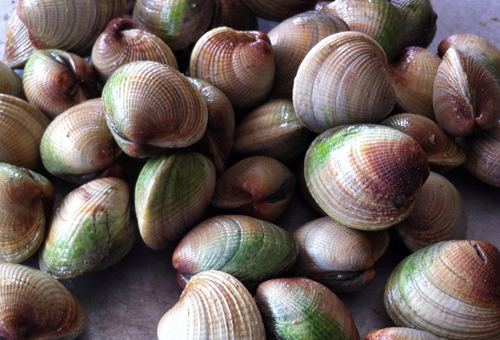cockle: (299, 122, 432, 233), (382, 238, 500, 339), (37, 172, 141, 283), (105, 57, 212, 159), (290, 29, 394, 132), (168, 212, 303, 287), (129, 153, 218, 252), (154, 269, 267, 340), (188, 25, 278, 104), (264, 9, 349, 91), (1, 260, 86, 339), (253, 278, 359, 340), (430, 46, 500, 138), (38, 97, 119, 174), (289, 214, 373, 286), (1, 157, 56, 262), (216, 154, 302, 221), (396, 168, 468, 248), (21, 48, 103, 114), (14, 1, 124, 50), (318, 1, 403, 60), (91, 17, 179, 73), (184, 73, 237, 164), (128, 1, 215, 54), (382, 114, 467, 165), (389, 45, 444, 113), (1, 94, 48, 171), (234, 103, 309, 151), (437, 32, 500, 72), (393, 1, 439, 49), (4, 11, 37, 68), (468, 135, 500, 192), (365, 325, 440, 340)
